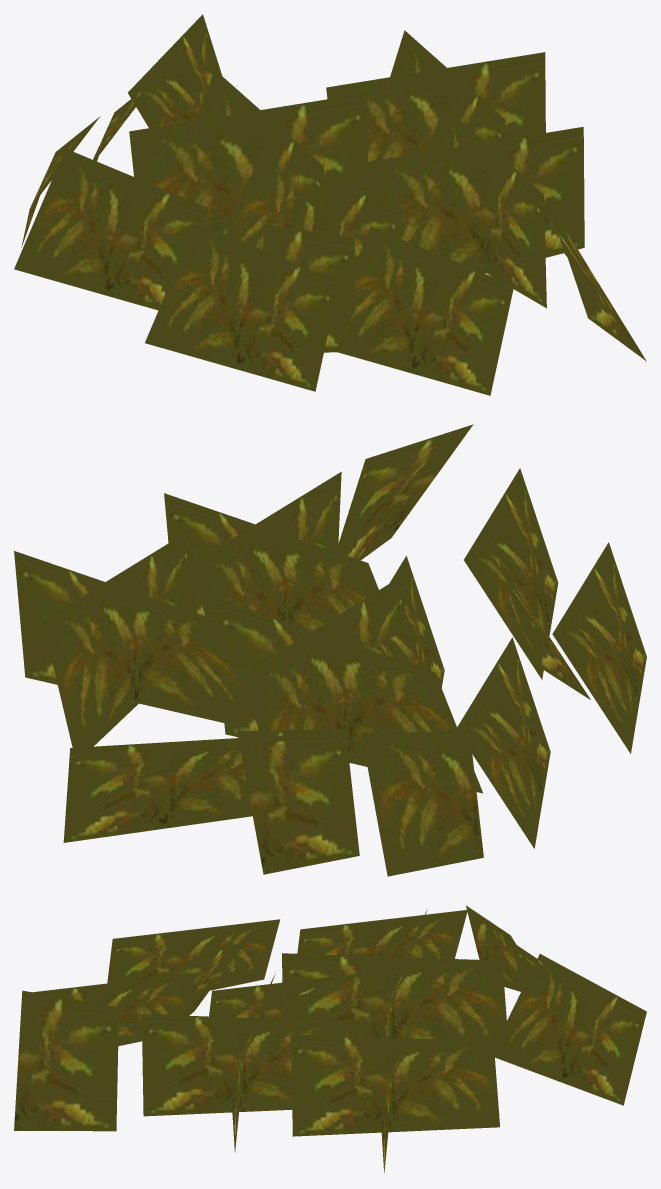
Rendered from grs_flower05.glb.
The picture shows the model from 3 angles, top to bottom: view 1: azimuth 30°, elevation 25°; view 2: azimuth 150°, elevation 25°; view 3: azimuth 270°, elevation 25°; orthographic projection. The views are drawn at different scales.
Visible parts, largest first — view 1: grs_flower05; view 2: grs_flower05; view 3: grs_flower05.
Part boxes in pixels (<box>): grs_flower05: <box>14,14,646,395</box>; grs_flower05: <box>14,424,646,876</box>; grs_flower05: <box>14,905,646,1172</box>.
Bounding box in the file's own units: 3.92 × 0.9557 × 4.98.
1 material, 1 textured.
